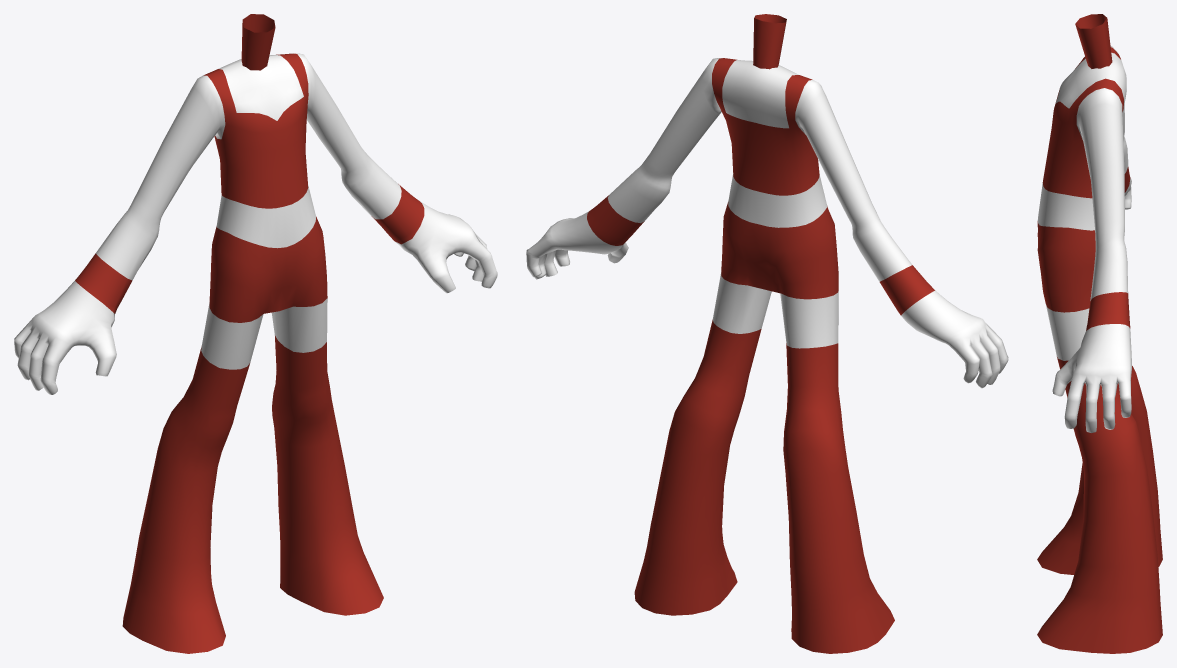
The model's file is SM_PNJ_Outfit_02.fbx.
3 renders of one model, left to right at view 1: azimuth 30°, elevation 25°; view 2: azimuth 150°, elevation 25°; view 3: azimuth 270°, elevation 25°, orthographic. The views are drawn at different scales.
Parts seen in each view (by area): view 1: SM_PNJ_Outfit_02; view 2: SM_PNJ_Outfit_02; view 3: SM_PNJ_Outfit_02.
Boxes of the visible parts, x1,y1,x2,y2 form: SM_PNJ_Outfit_02: [14, 14, 497, 653]; SM_PNJ_Outfit_02: [526, 14, 1008, 653]; SM_PNJ_Outfit_02: [1037, 14, 1162, 653].
Bounding box in the file's own units: 49.39 × 60.38 × 11.88.
